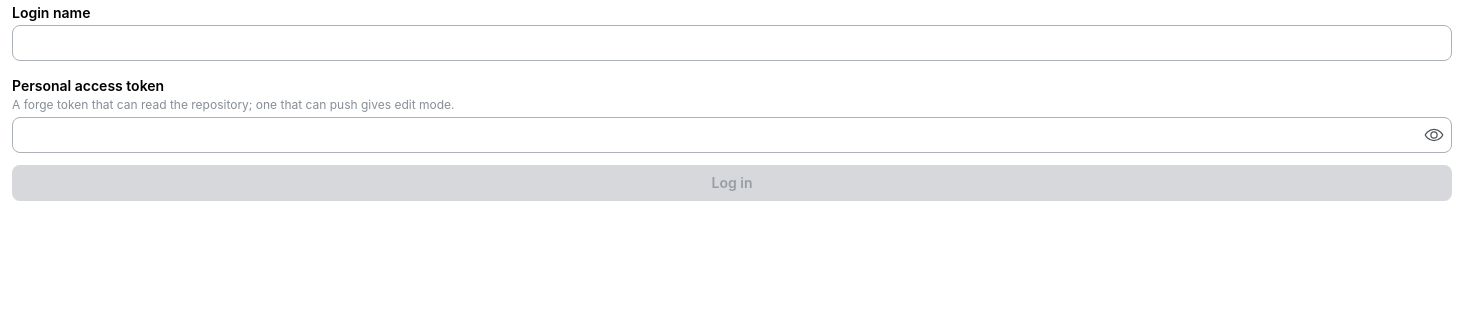
LoginForm › explains an unreachable forge
Type "alice" into the field labelled "Login name". click: (732, 43)
box: [12,25,1452,61]
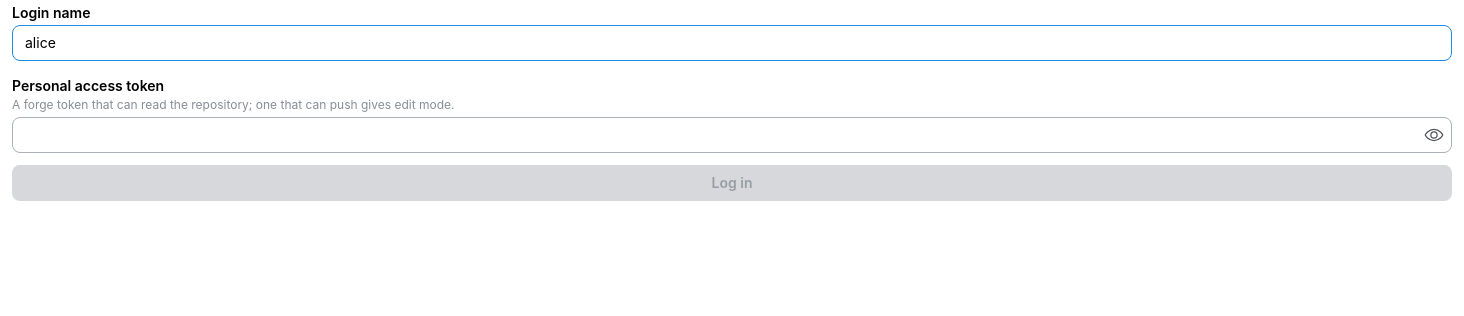
Type "tok-123" into the password field labelled "Personal access token". click: (732, 135)
box: [13,118,1451,152]
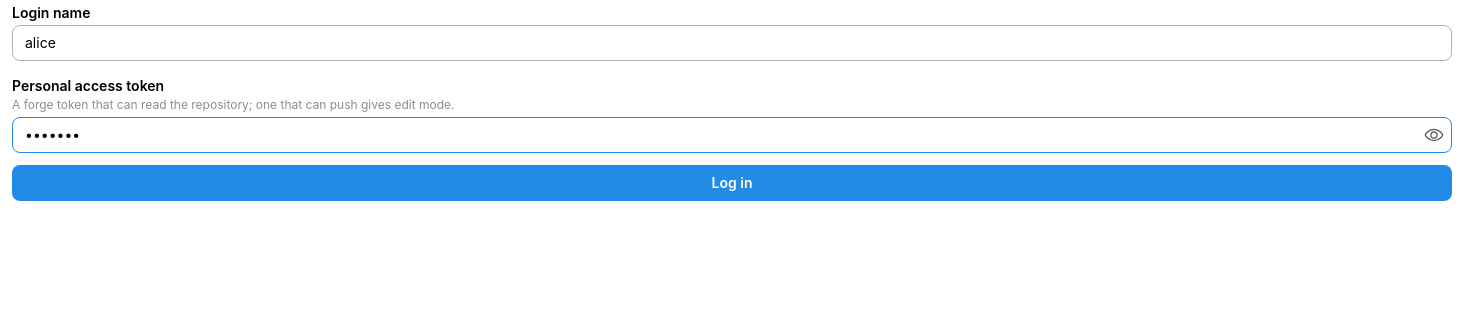
Click the button "Log in". click: (732, 183)
box: [12,165,1452,201]
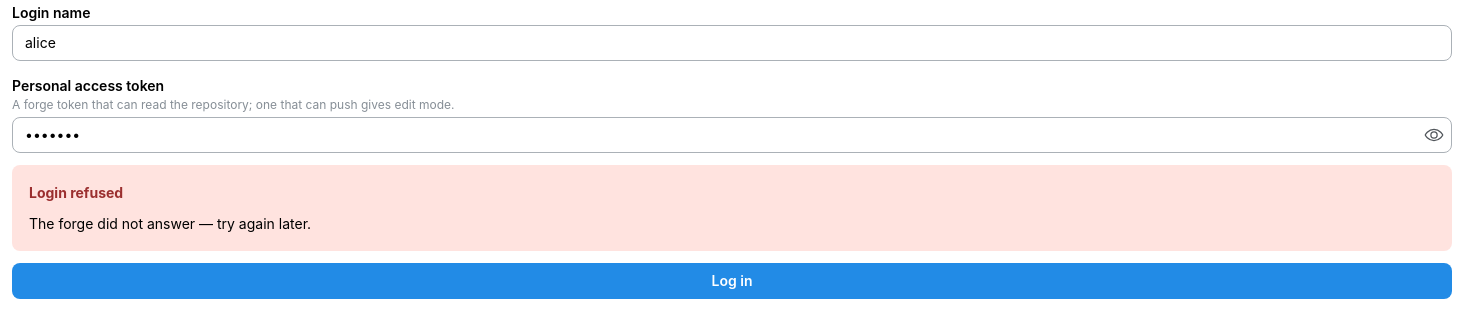
Now the text "The forge did not answer — try again later." is shown, box [29,215,311,232]
